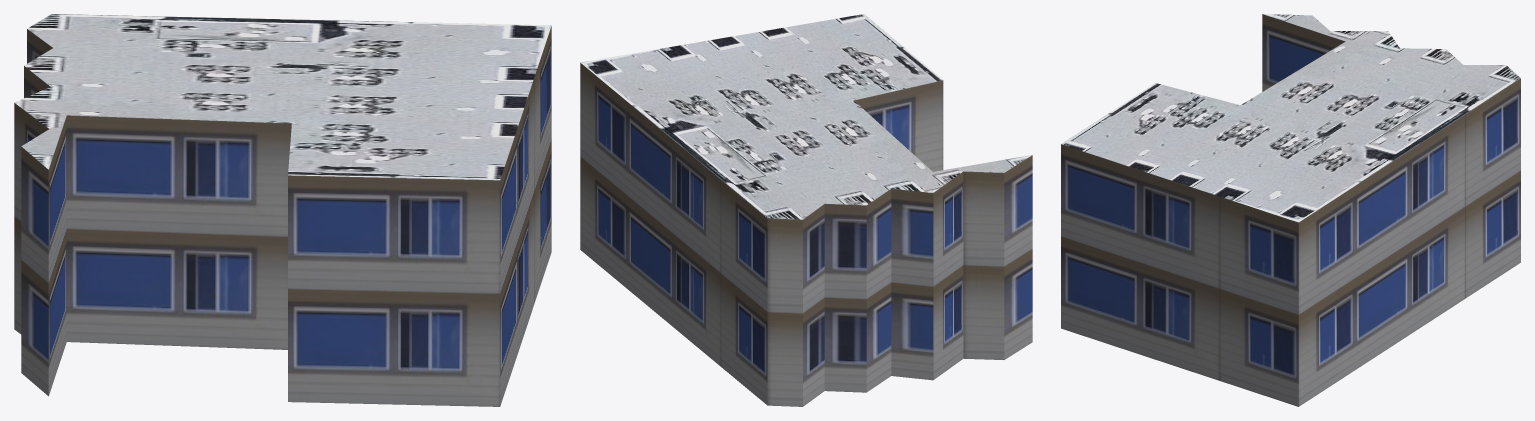
The model's file is ResTex__3106.fbx.
3 renders of one model, left to right at view 1: azimuth 30°, elevation 25°; view 2: azimuth 150°, elevation 25°; view 3: azimuth 270°, elevation 25°, orthographic. The views are drawn at different scales.
Parts seen in each view (by area): view 1: CityEngineMaterial_23_m, CityEngineMaterial_2_m; view 2: CityEngineMaterial_23_m, CityEngineMaterial_2_m; view 3: CityEngineMaterial_23_m, CityEngineMaterial_2_m.
Boxes of the visible parts, x1,y1,x2,y2 form: CityEngineMaterial_23_m: (14,26,551,406); CityEngineMaterial_2_m: (14,14,551,180); CityEngineMaterial_23_m: (580,63,1032,406); CityEngineMaterial_2_m: (580,14,1031,219); CityEngineMaterial_23_m: (1061,14,1520,406); CityEngineMaterial_2_m: (1061,14,1520,222).
Bounding box in the file's own units: 14.55 × 6 × 13.55.
Materials: 2 (2 with a texture image).
